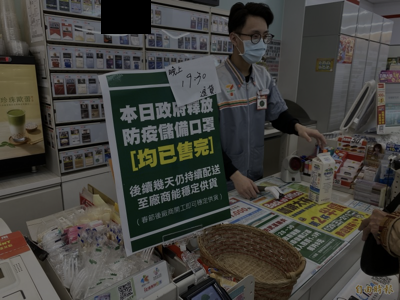with_mask: (237, 28, 271, 64)
